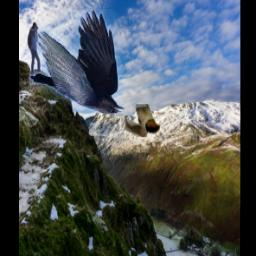Crow: (29, 9, 125, 113)
Swallow: (124, 105, 160, 138)
